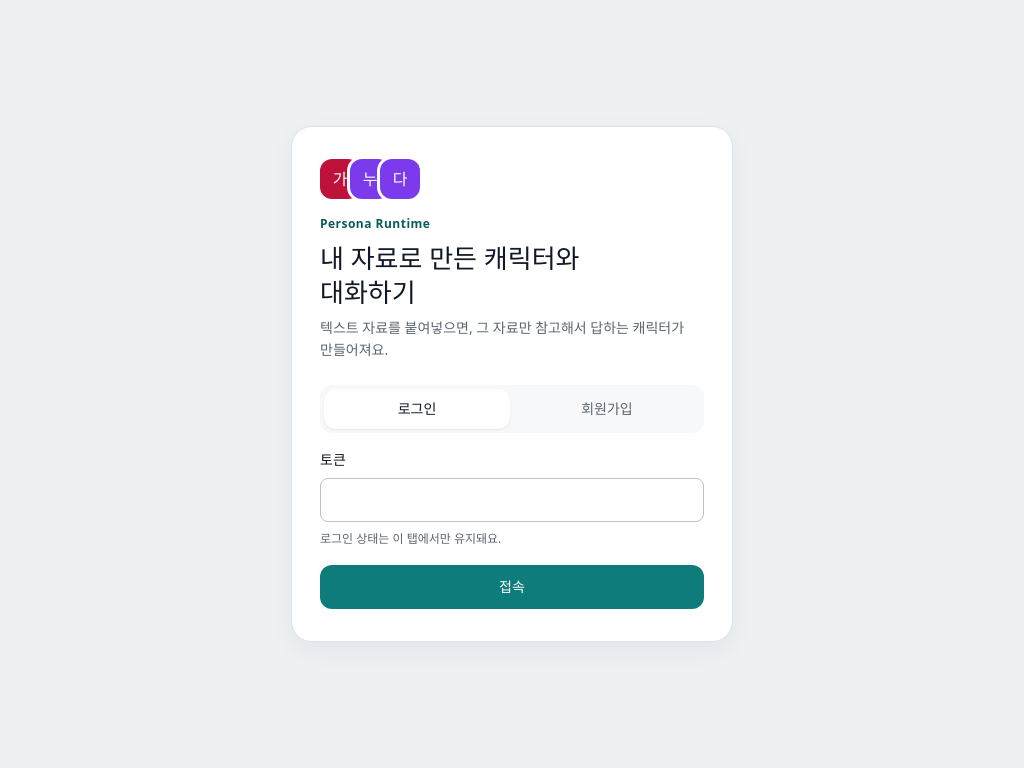
Test: 개요는 서버가 준 값만 보여준다
In the password field labelled "토큰": (512, 500) [320,478,704,522], type "synthetic-token"
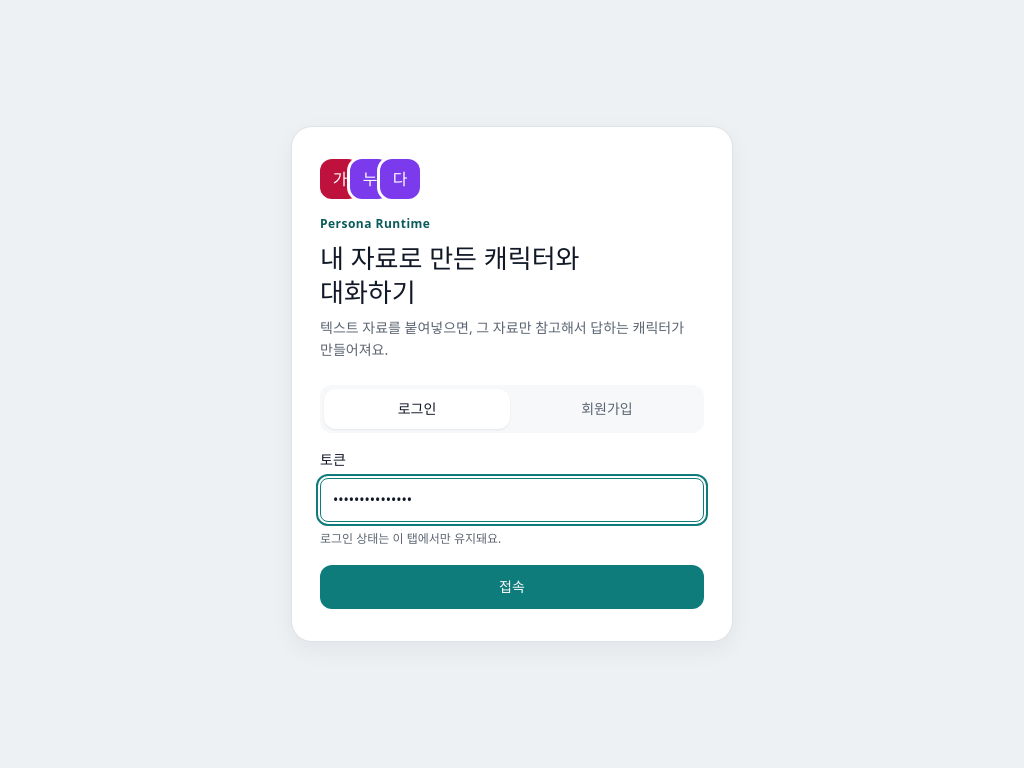
Click the button "접속": (512, 587) [320,565,704,609]
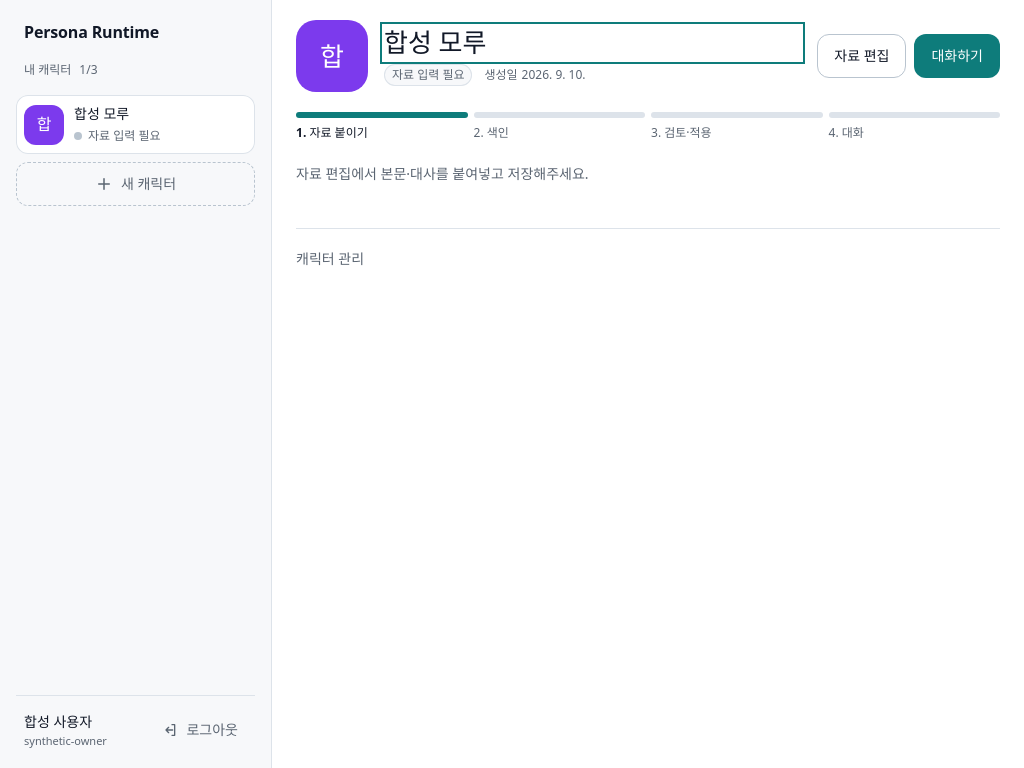
expect the heading "내 캐릭터" is shown: met, box [24,62,71,77]
expect the heading "합성 모루" is shown: met, box [384,24,486,60]
expect the text "생성일" is shown: met, box [484,66,518,84]
